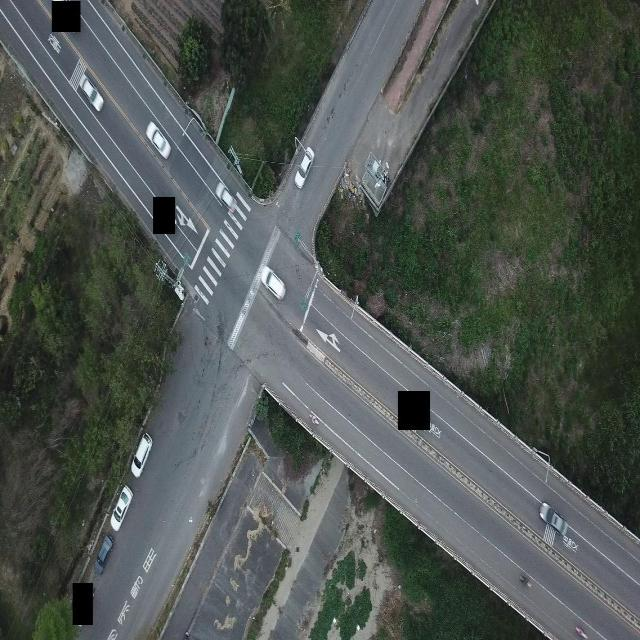car: (539, 498, 568, 536), (110, 484, 133, 531), (130, 431, 152, 478), (78, 73, 104, 112), (145, 121, 171, 160), (215, 172, 236, 217), (294, 146, 315, 189), (261, 266, 286, 301), (94, 533, 114, 574)
